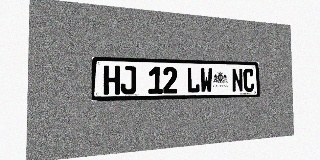1: (148, 66, 163, 94)
2: (163, 67, 177, 94)
C: (243, 68, 254, 92)
H: (103, 65, 120, 95)
J: (120, 66, 136, 94)
L: (187, 67, 200, 93)
N: (232, 68, 243, 92)
W: (200, 67, 213, 93)
